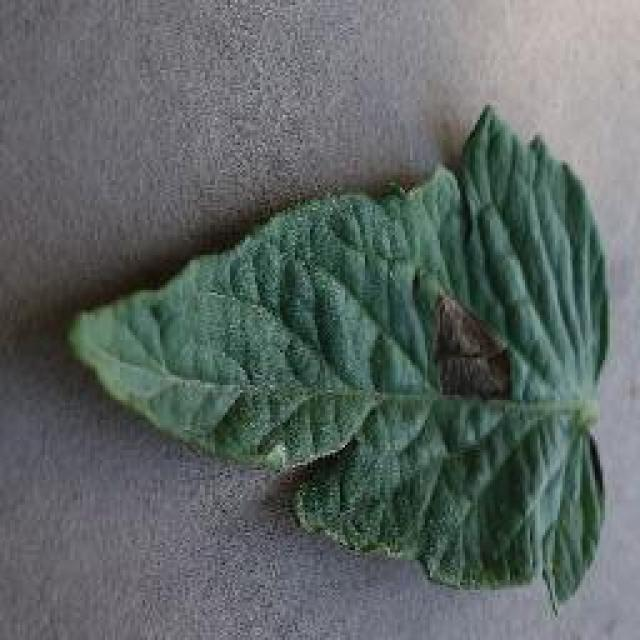Tomato Early blight leaf: (55, 116, 630, 604)
